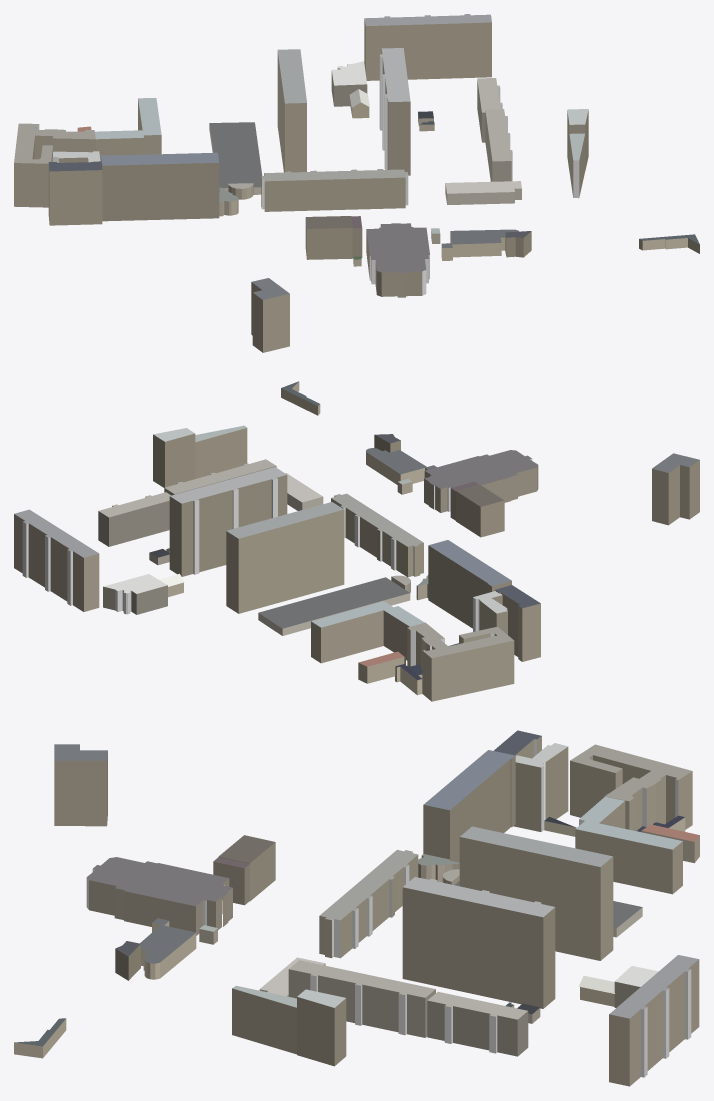
3 renders of one model, top to bottom at view 1: azimuth 30°, elevation 25°; view 2: azimuth 150°, elevation 25°; view 3: azimuth 270°, elevation 25°, orthographic. The views are drawn at different scales.
Visible parts, largest first — view 1: tuile; view 2: tuile; view 3: tuile.
Part boxes in pixels (x1,y1,x2,y2): tuile: (14, 14, 699, 352); tuile: (14, 381, 699, 701); tuile: (14, 730, 699, 1086).
Bounding box in the file's own units: 276 × 46.01 × 270.
